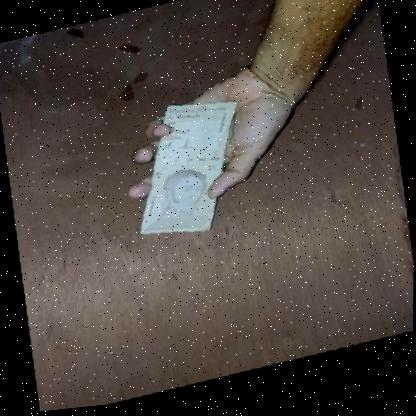five-front-vef: (133, 100, 245, 245)
